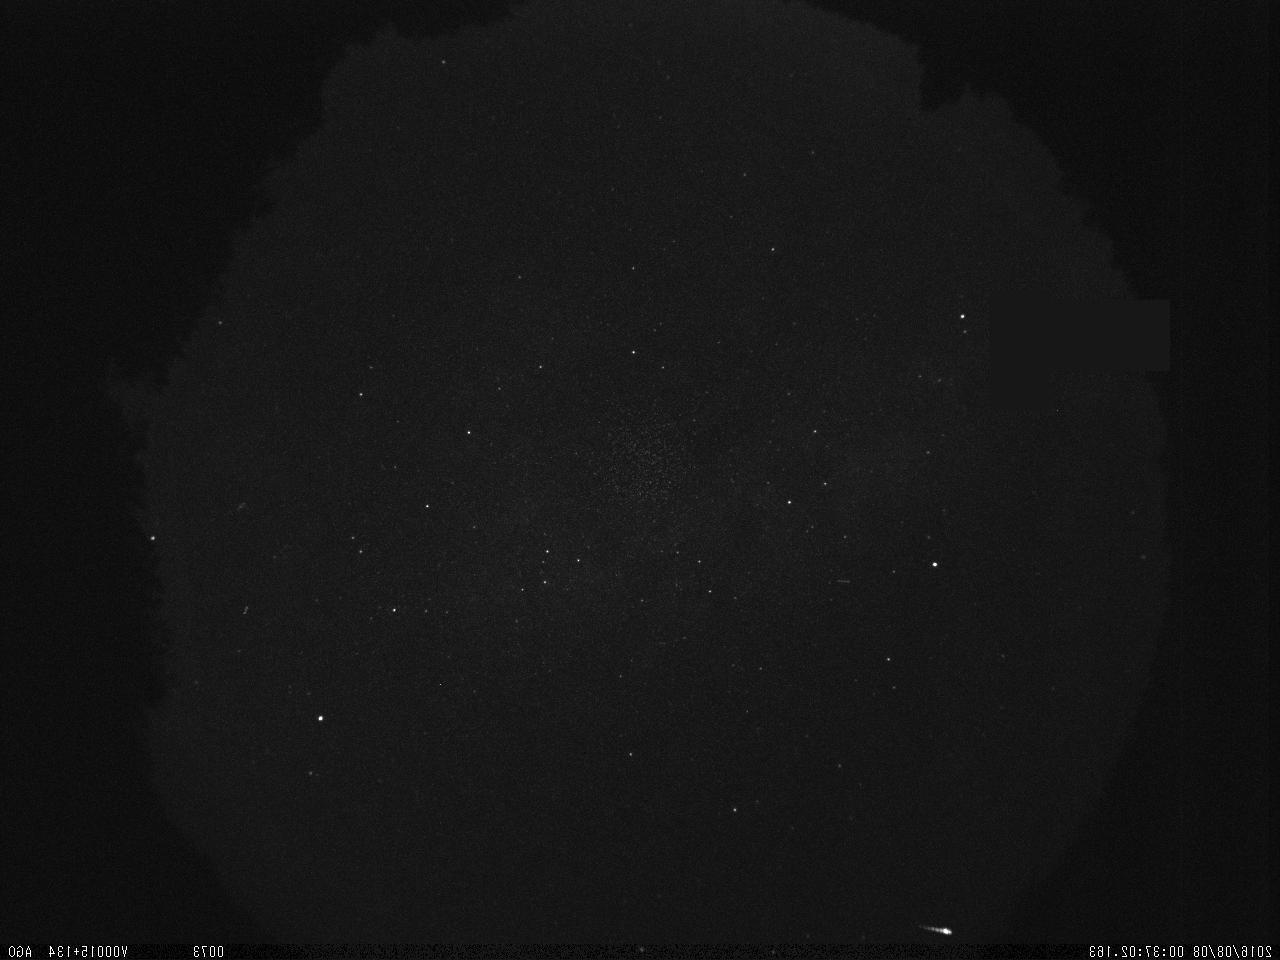meteor: (906, 911, 959, 943)
